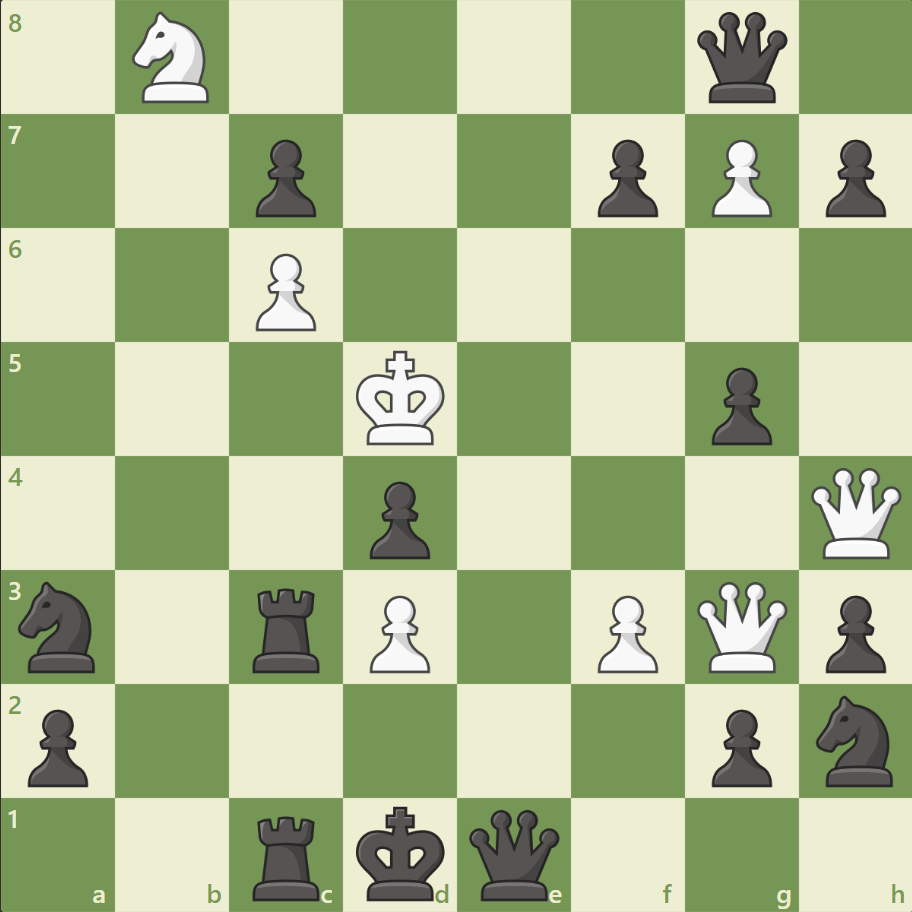K: (351, 344, 451, 452)
N: (124, 7, 222, 110)
P: (701, 132, 776, 223), (247, 246, 322, 337), (361, 586, 435, 677), (588, 586, 662, 677)
Q: (691, 576, 790, 676), (805, 463, 904, 562)
k: (351, 798, 451, 906)
n: (806, 688, 903, 791), (11, 575, 108, 677)
p: (247, 132, 322, 223), (701, 359, 776, 450), (20, 700, 95, 791), (701, 700, 776, 791), (588, 132, 662, 223), (815, 132, 889, 223), (361, 473, 435, 564), (815, 586, 889, 677)
q: (691, 9, 790, 108), (464, 804, 563, 903)
r: (246, 806, 329, 904), (246, 579, 329, 676)
